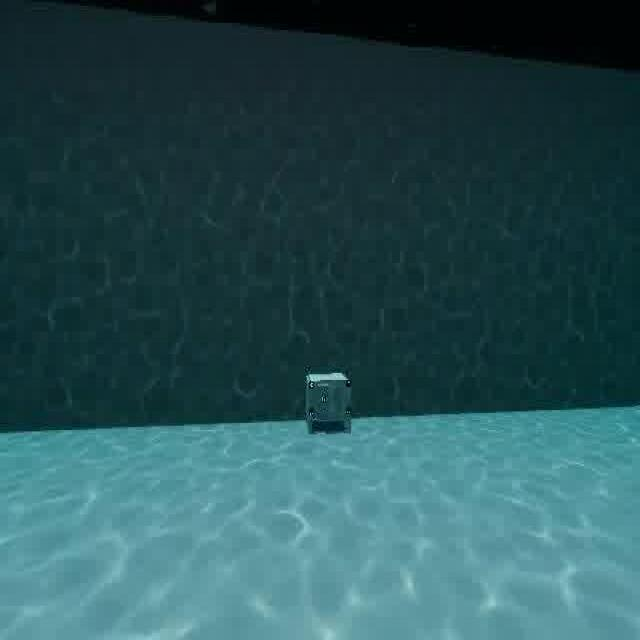Docking Station: (301, 364, 359, 442)
